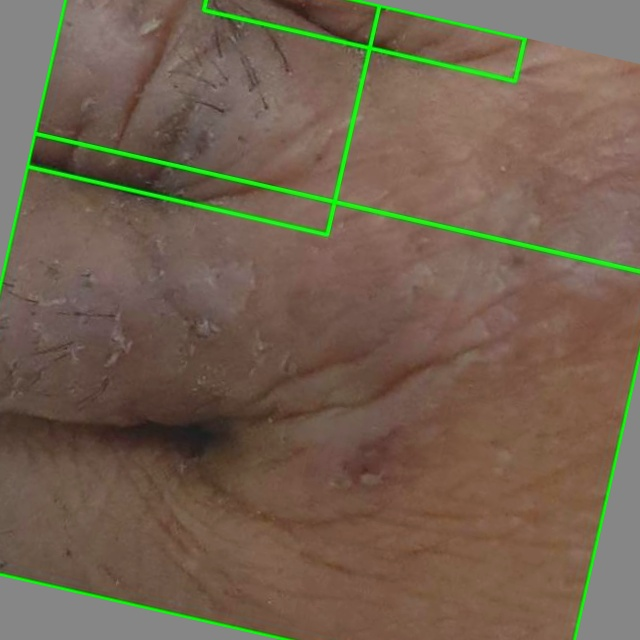Eczema: (0, 133, 639, 639), (26, 0, 379, 234), (203, 0, 524, 81)
